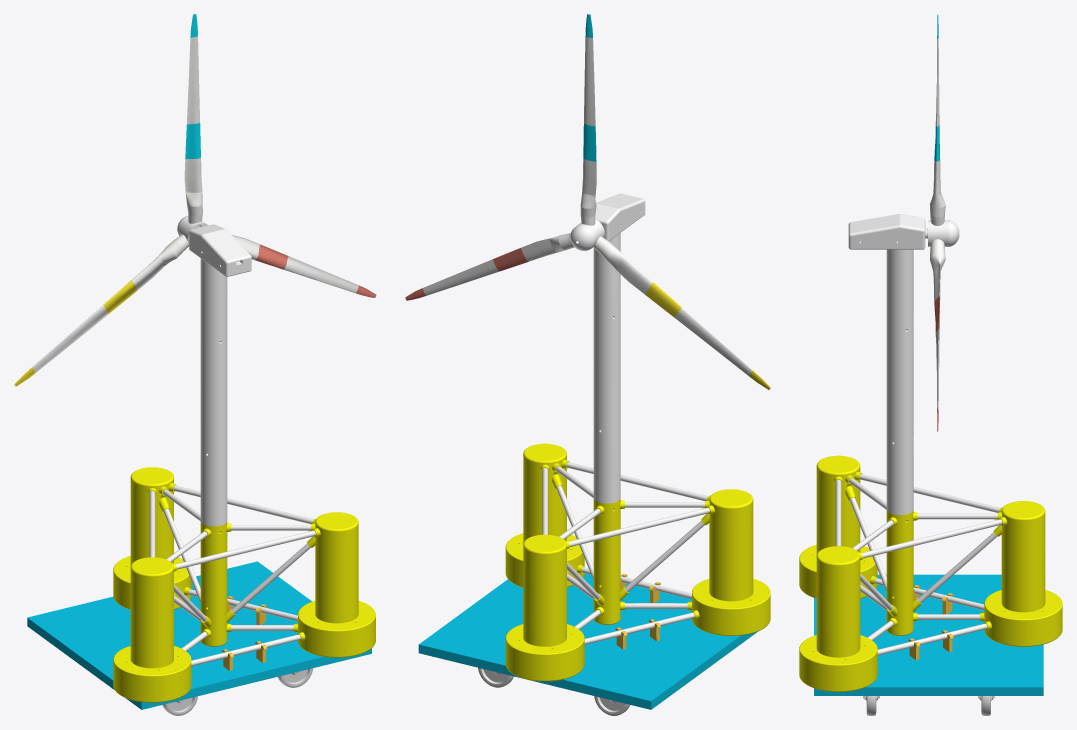
3 views of the same model, side by side, from view 1: azimuth 30°, elevation 25°; view 2: azimuth 150°, elevation 25°; view 3: azimuth 270°, elevation 25° (orthographic).
Visible parts, largest first — view 1: Body1.083, pontoon_top.001, pontoon_top, pontoon_top.002, pilar_mid_b, Body1.001, Body1, pilar_mid_b (1) (1).001, pilar_top, pilar_mid_t, Body1.067, pilar_base (+11 smaller); view 2: Body1.083, pontoon_top, pontoon_top.002, pontoon_top.001, pilar_mid_b, Body1.012, Body1, pilar_mid_b (1) (1).001, pilar_top, pilar_mid_t, pilar_base, Body1.067 (+11 smaller); view 3: Body1.083, pontoon_top.002, pontoon_top.001, pontoon_top, pilar_mid_b, Body1.012, Body1.001, pilar_mid_b (1) (1).001, pilar_mid_t, pilar_top, Body1.067, pilar_base (+13 smaller).
Boxes of the visible parts, x1,y1,x2,y2 form: Body1.083: (27,561,371,709); pontoon_top.001: (299,512,373,629); pontoon_top: (115,557,189,674); pontoon_top.002: (115,467,188,581); pilar_mid_b: (200,331,227,448); Body1.001: (293,601,375,657); Body1: (113,646,191,702); pilar_mid_b (1) (1).001: (200,443,227,526); pilar_top: (200,521,231,607); pilar_mid_t: (200,258,227,335); Body1.067: (189,224,251,267); pilar_base: (200,595,235,646); Body1.083: (418,573,758,709); pontoon_top: (694,489,768,607); pontoon_top.002: (507,534,582,653); pontoon_top.001: (507,443,581,559); pilar_mid_b: (593,306,620,430); Body1.012: (505,624,584,681); Body1: (687,578,770,635); pilar_mid_b (1) (1).001: (593,420,620,509); pilar_top: (593,498,624,585); pilar_mid_t: (593,233,620,311); pilar_base: (593,573,628,624); Body1.067: (595,193,645,232); Body1.083: (814,574,1043,695); pontoon_top.002: (986,501,1060,618); pontoon_top.001: (801,546,875,663); pontoon_top: (801,455,874,570); pilar_mid_b: (886,319,913,442); Body1.012: (980,590,1062,646); Body1.001: (799,635,877,691); pilar_mid_b (1) (1).001: (886,431,913,520); pilar_mid_t: (886,249,913,329); pilar_top: (886,510,917,589); Body1.067: (848,214,925,242); pilar_base: (886,584,921,635).
Bounding box in the file's own units: 1.1 × 1.92 × 0.6885.
